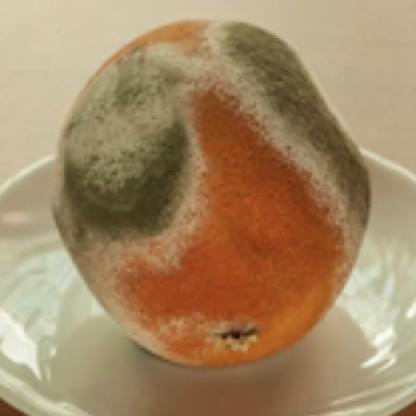rotten: (56, 21, 369, 365)
